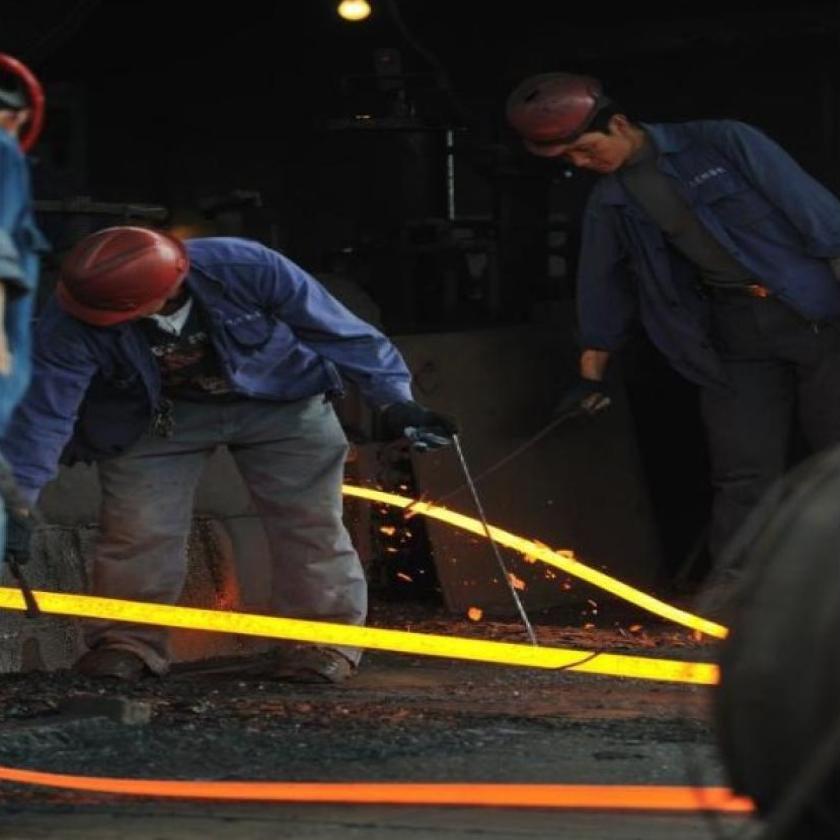Con_casco: (505, 66, 637, 184), (63, 223, 196, 339)
